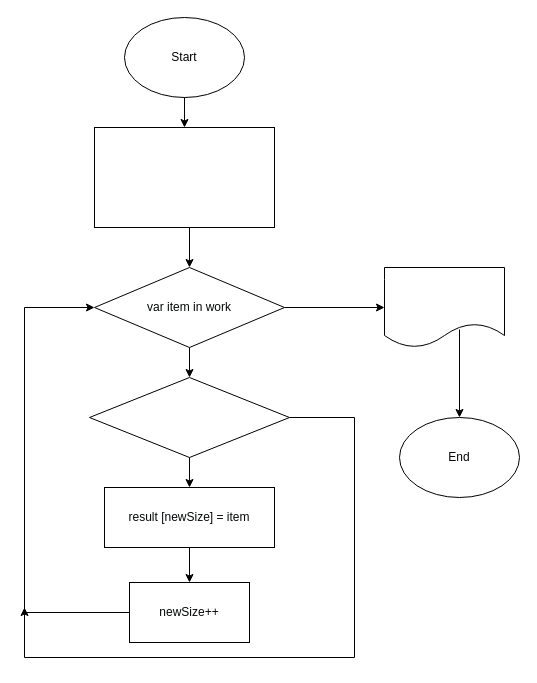
Image size: 537x683. Some labels were removed from this diagram. Each missing label, with the centre of its shape:
"item.Length < = 3" belongs at point 189,417.
"Print" belongs at point 444,307.
"String[] work; String array; work; var result; var newSize=0; var go =work;" belongs at point 184,177.
